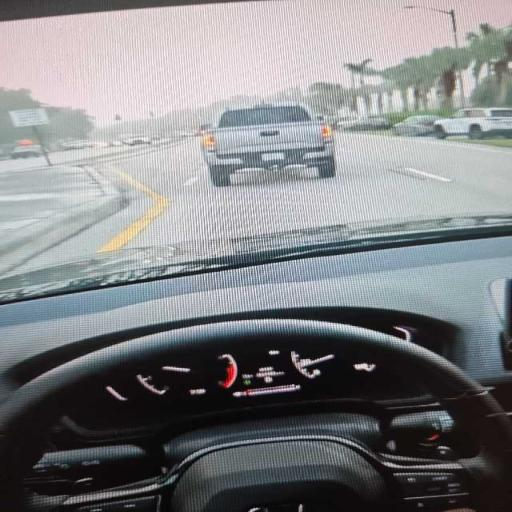car: (0, 0, 511, 511), (202, 104, 335, 186), (434, 108, 511, 139), (393, 116, 439, 136), (337, 116, 390, 130), (11, 145, 42, 159), (61, 140, 94, 150), (123, 136, 151, 145), (93, 141, 108, 148), (108, 140, 123, 146)
lane: (32, 133, 511, 267), (16, 139, 197, 271)
